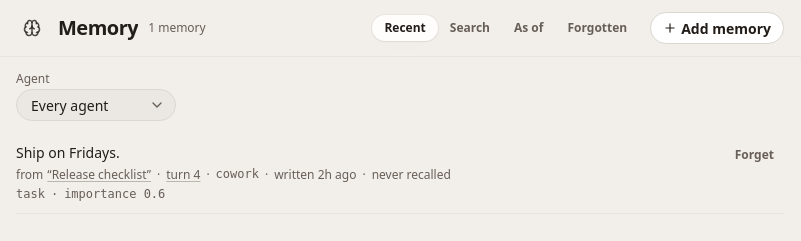
forgetting › says so on the row when the forget fails, rather than leaving the confirm armed
Click the button with aria-label "Forget “" at point(754, 155), box [725, 143, 784, 167]
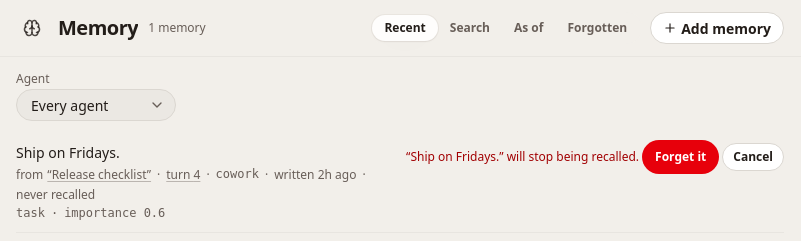
Click the button "Forget it" at point(681, 157), box [645, 143, 716, 171]
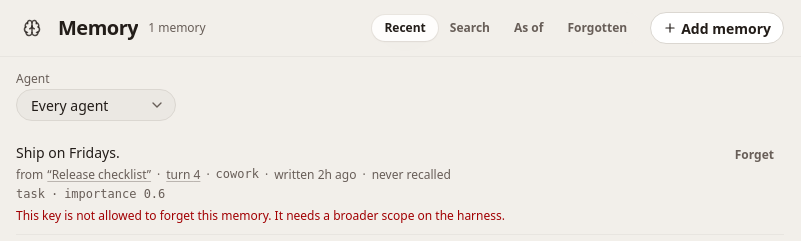
Expected: the message shows "not allowed to forget this memory", [16, 207, 505, 224]
